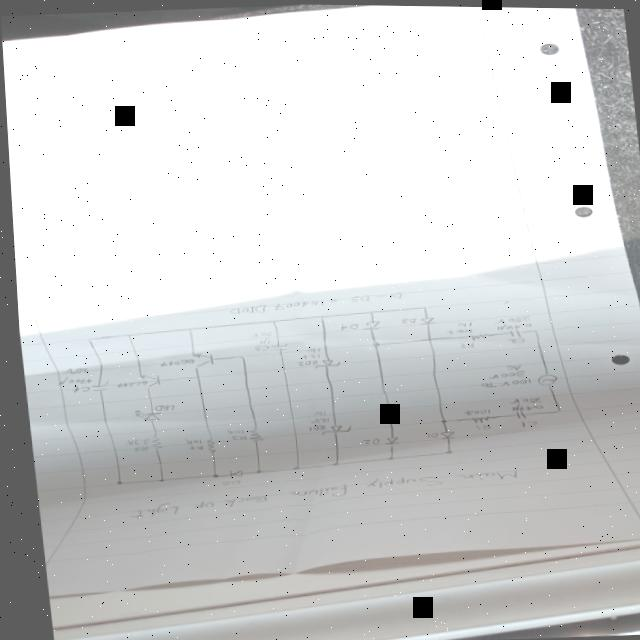capacitor: (87, 380, 106, 394), (502, 327, 522, 337), (265, 342, 285, 351), (508, 409, 524, 419)
crossover: (420, 336, 431, 342)
diode: (128, 408, 160, 423), (316, 423, 348, 435), (309, 358, 338, 369), (357, 319, 380, 330), (378, 435, 397, 446), (223, 468, 239, 479), (415, 316, 434, 325), (435, 429, 452, 439)
junction: (367, 340, 377, 346), (435, 418, 443, 423), (314, 314, 322, 319), (266, 319, 274, 324), (182, 327, 190, 332), (416, 305, 425, 309), (120, 334, 129, 338), (109, 481, 118, 485), (206, 474, 215, 478), (287, 466, 296, 470), (382, 456, 390, 460), (440, 449, 448, 453), (364, 310, 372, 314), (81, 338, 89, 342), (250, 470, 258, 474), (327, 462, 335, 466), (234, 355, 242, 359), (529, 328, 536, 332), (189, 376, 198, 379), (153, 479, 160, 482), (552, 409, 558, 412)
resistor: (466, 331, 492, 341), (242, 430, 261, 443), (200, 438, 214, 453), (465, 415, 491, 423), (146, 435, 159, 450)
source: (532, 371, 555, 386)
text: (118, 463, 518, 524), (224, 289, 403, 317), (476, 376, 528, 388), (483, 368, 522, 379), (53, 375, 89, 386), (155, 358, 191, 367), (489, 314, 528, 322), (493, 321, 529, 329), (507, 401, 539, 410), (112, 380, 144, 388), (58, 367, 86, 375), (505, 396, 537, 403), (458, 408, 487, 415), (335, 322, 356, 331), (443, 327, 470, 334), (120, 439, 146, 446), (66, 385, 86, 394), (305, 416, 326, 424), (292, 359, 316, 366), (150, 404, 172, 411), (247, 331, 269, 338), (179, 437, 198, 445), (296, 352, 317, 359), (356, 438, 376, 445), (221, 428, 240, 435), (304, 424, 322, 431), (454, 341, 472, 348), (501, 363, 519, 370), (516, 419, 534, 426), (470, 422, 488, 429), (215, 480, 236, 486), (303, 346, 318, 354), (308, 409, 322, 417), (226, 434, 242, 441), (183, 444, 199, 451), (129, 445, 145, 452), (250, 344, 266, 351), (399, 316, 415, 323), (454, 320, 470, 327), (504, 336, 522, 342), (421, 431, 435, 438), (255, 337, 267, 345)
transistor: (187, 351, 213, 370), (134, 373, 160, 389)
